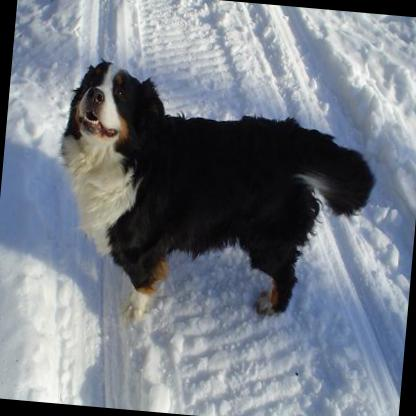Bernese_mountain_dog: (42, 57, 385, 339)
